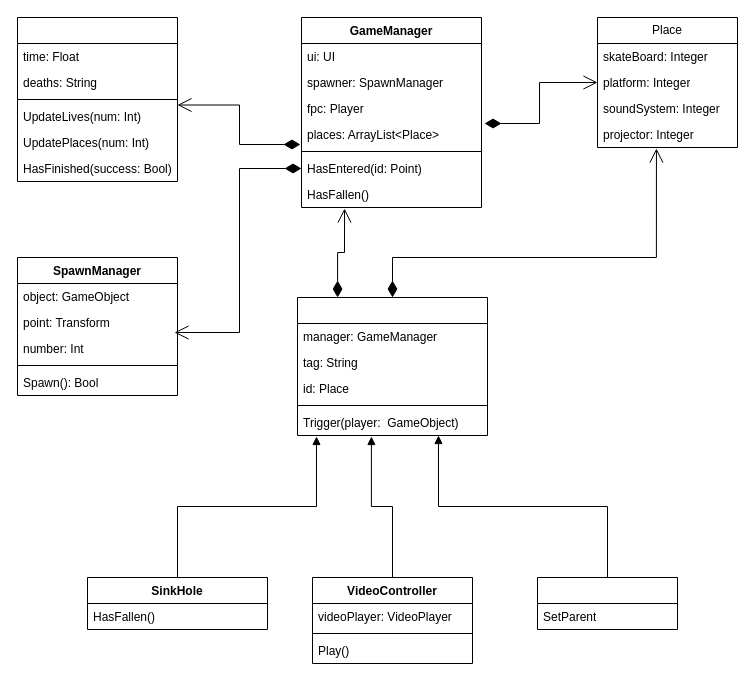
The diagram is 755 pixels wide and 684 high, and some of its shapes have lost their labels. The box of each missing label's shape, as (x1, y1, x2, y2) in pixels:
EntryPoint: (296, 296, 488, 436)
Platform: (536, 576, 678, 630)
UI: (16, 16, 178, 182)
